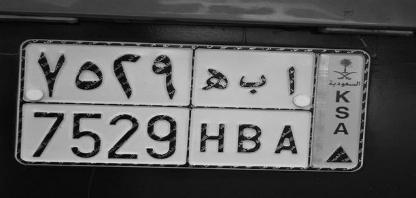license plate: (7, 19, 384, 177)
